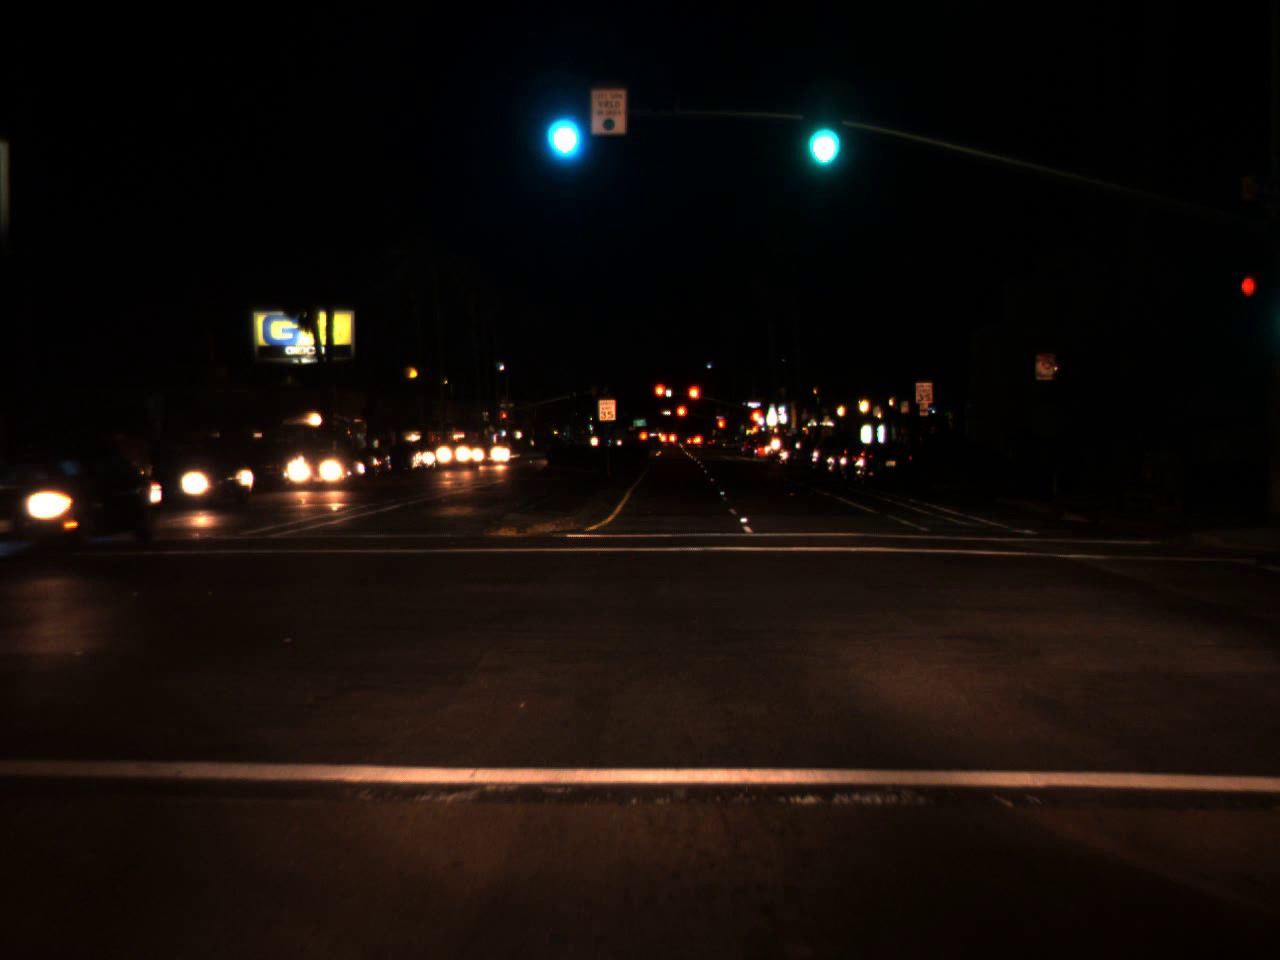go: (798, 90, 843, 177), (543, 92, 582, 164)
stop: (653, 381, 668, 413), (686, 384, 701, 413), (674, 403, 687, 430), (751, 409, 761, 438), (717, 418, 724, 439), (501, 413, 507, 423)
